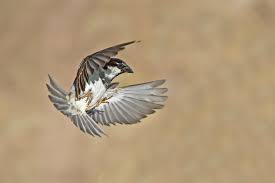hsparrow: (38, 36, 172, 147)
